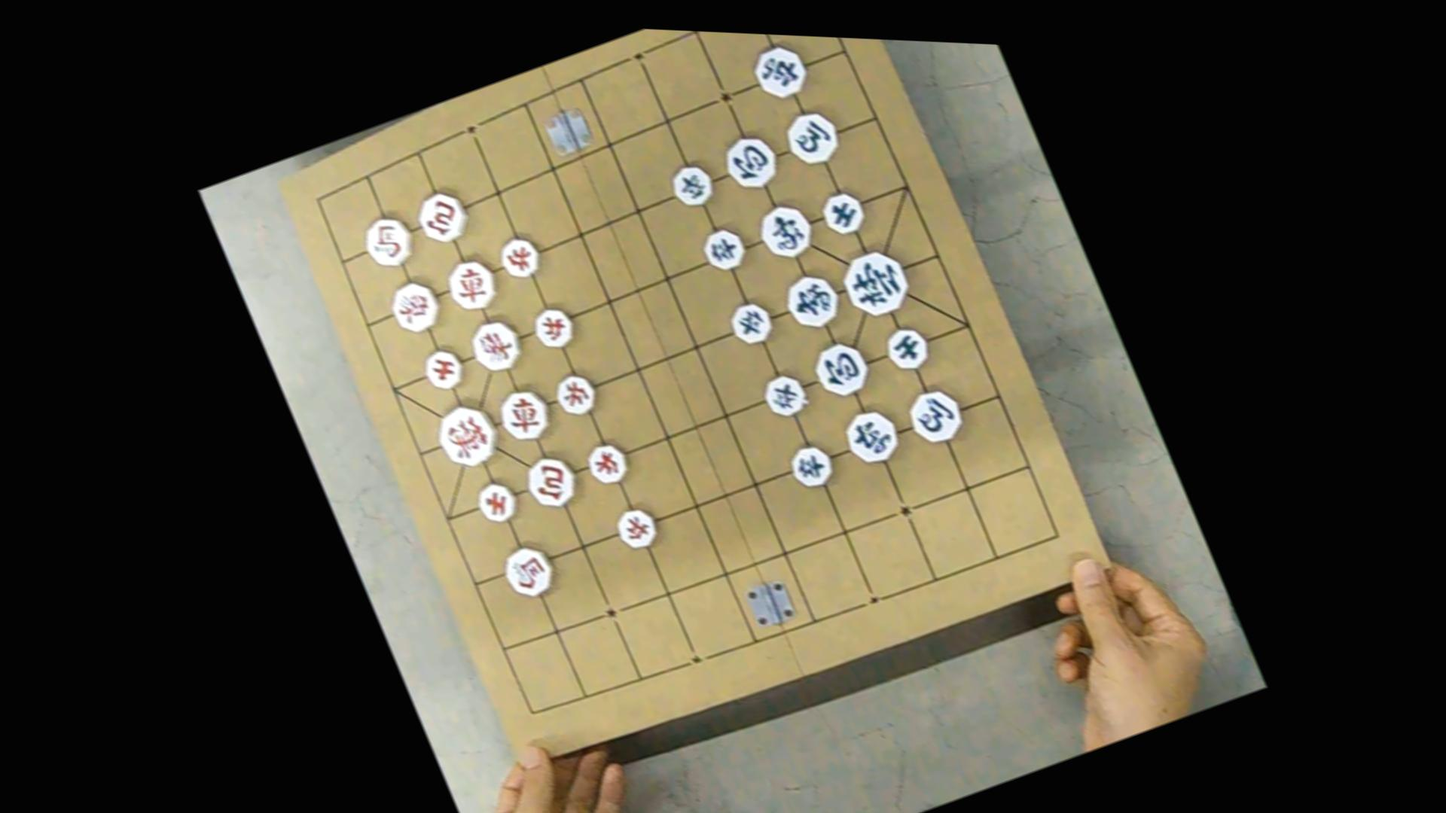cha_green: (838, 404, 905, 471), (747, 40, 813, 105)
cha_red: (493, 383, 557, 448), (441, 254, 503, 317)
jol_green: (784, 440, 838, 494), (725, 297, 777, 349), (759, 370, 811, 422), (666, 160, 718, 212), (699, 224, 750, 276)
jol_red: (494, 232, 545, 284), (550, 370, 602, 421), (528, 303, 579, 354), (582, 439, 633, 490), (612, 503, 662, 554)
ma_green: (902, 384, 969, 450), (779, 106, 844, 172)
ma_red: (356, 210, 419, 275), (498, 540, 560, 603)
po_green: (807, 336, 875, 403), (718, 129, 783, 196)
po_red: (520, 450, 584, 516), (410, 187, 473, 249)
sa_green: (880, 322, 935, 376), (816, 187, 869, 240)
sa_red: (471, 477, 522, 528), (419, 344, 469, 395)
sang_green: (779, 269, 846, 336), (753, 199, 819, 266)
sang_red: (464, 314, 527, 379), (385, 276, 446, 339)
wang_green: (834, 243, 917, 325)
wang_red: (429, 397, 505, 475)
